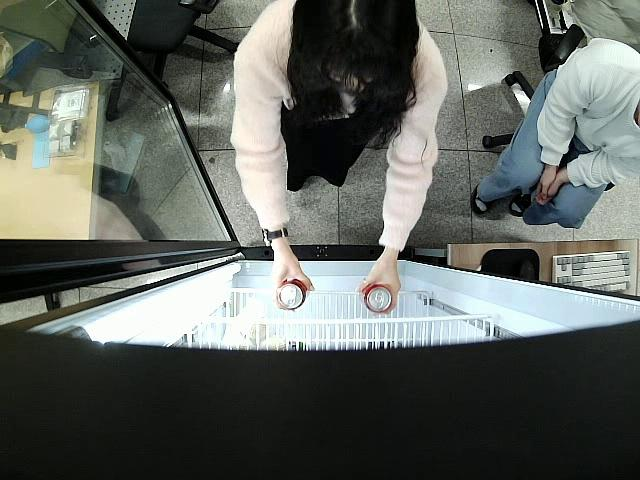00_hand: (268, 252, 316, 314), (356, 259, 403, 314), (534, 163, 566, 208)
11_cocaColaZero: (276, 277, 309, 311), (360, 283, 393, 314)
